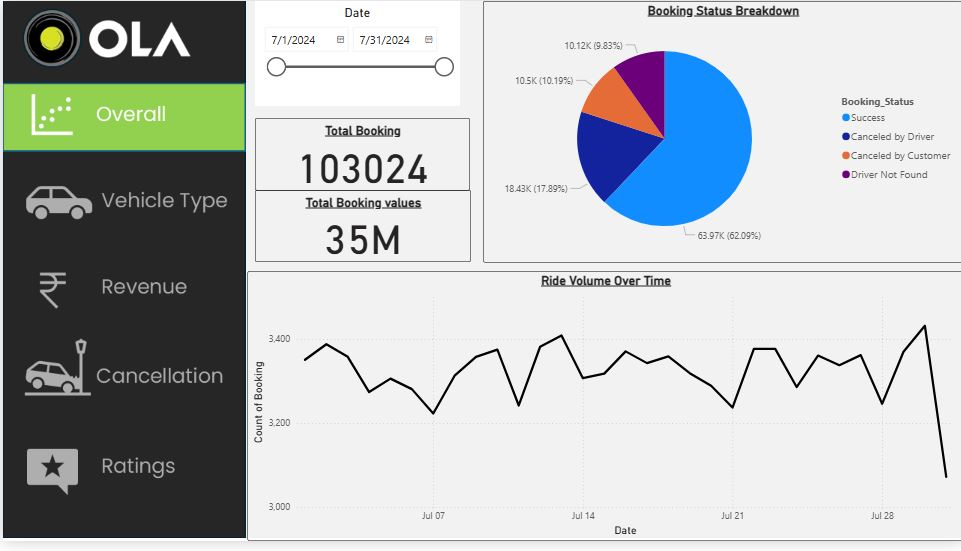

Layout of this report page (visuals, bound fields, positions):
{"tool":"powerbi","page":{"name":"Overall","canvas":[1280,720],"ordinal":0},"visuals":[{"type":"actionButton","box":[0,201.3,324.3,100.7],"z":0},{"type":"actionButton","box":[0,201.3,324.3,135.8],"z":1000},{"type":"actionButton","box":[0,337.1,324.3,97.5],"z":2000},{"type":"actionButton","box":[0,110.2,324.3,91.1],"z":3000},{"type":"actionButton","box":[0,434.6,324.3,97.5],"z":4000},{"type":"actionButton","box":[0,576.8,324.3,97.5],"z":5000},{"type":"actionButton","box":[0,105.4,324.3,100.7],"z":6000},{"type":"lineChart","title":"Ride Volume Over Time","fields":{"Category":["July.Date"],"Y":["CountNonNull(July.Booking_ID)"]},"box":[325,360,955,360],"z":7000},{"type":"pieChart","title":"Booking Status Breakdown","fields":{"Y":["CountNonNull(July.Booking_ID)"],"Category":["July.Booking_Status"]},"box":[640,0,640,348.3],"z":8000},{"type":"slicer","title":"Date","fields":{"Values":["July.Date"]},"box":[336.7,0,273.3,140],"z":9000},{"type":"card","title":"Total Booking","fields":{"Values":["Count(July.Booking_ID)"]},"box":[336.7,155,286.7,96.7],"z":10000},{"type":"card","title":"Total Booking values","fields":{"Values":["Sum(July.Booking_Value)"]},"box":[336,252,288,96],"z":11000}]}

Visuals, with their boxes in screenshot pixels (x1, y1, x2, y2), scaled from the page's 1280x720 canvas onto the 961x551 screenshot:
actionButton: 0 154 243 231
actionButton: 0 154 243 258
actionButton: 0 258 243 333
actionButton: 0 84 243 154
actionButton: 0 333 243 407
actionButton: 0 441 243 516
actionButton: 0 81 243 158
"Ride Volume Over Time" lineChart: 244 276 960 550
"Booking Status Breakdown" pieChart: 480 0 960 267
"Date" slicer: 253 0 458 107
"Total Booking" card: 253 119 468 193
"Total Booking values" card: 252 193 468 266
